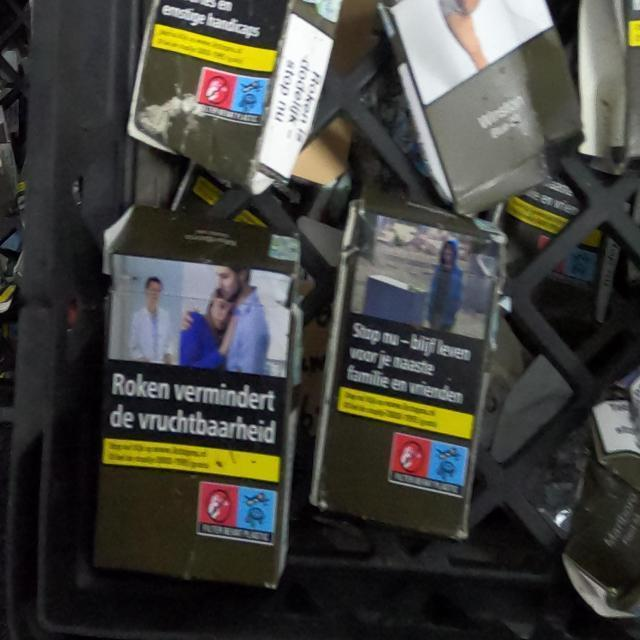Paper: (88, 198, 304, 594), (302, 195, 512, 550)
